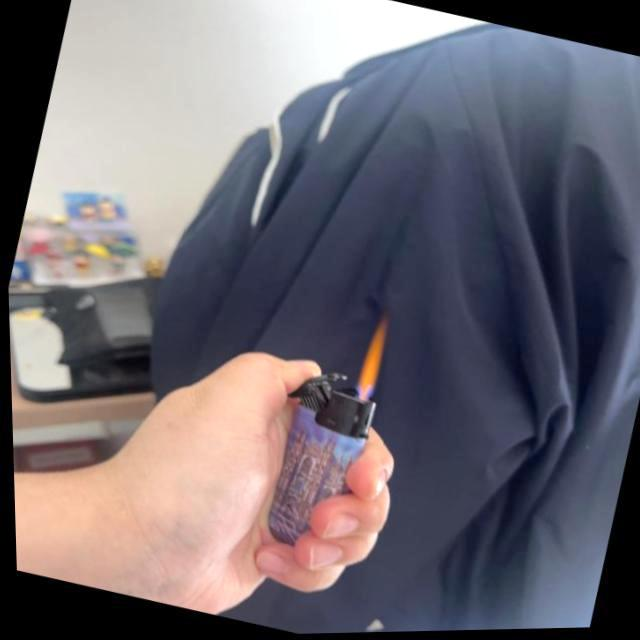fire: (348, 316, 392, 399)
